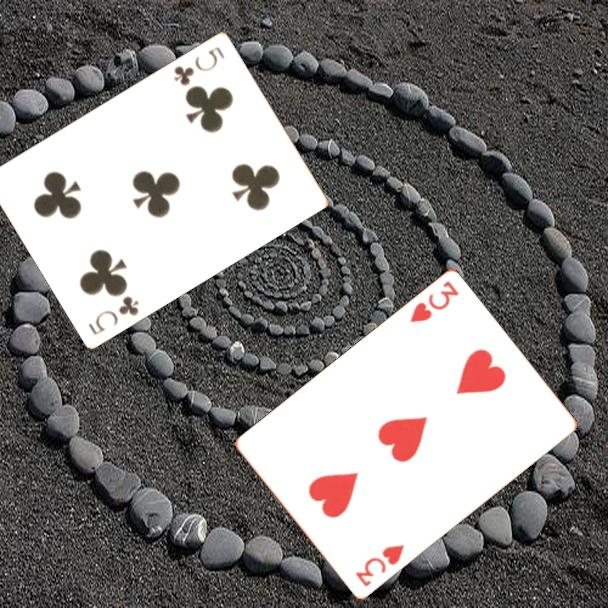c05: (170, 43, 228, 89), (85, 292, 142, 338)
h03: (406, 277, 462, 326), (352, 541, 407, 590)
